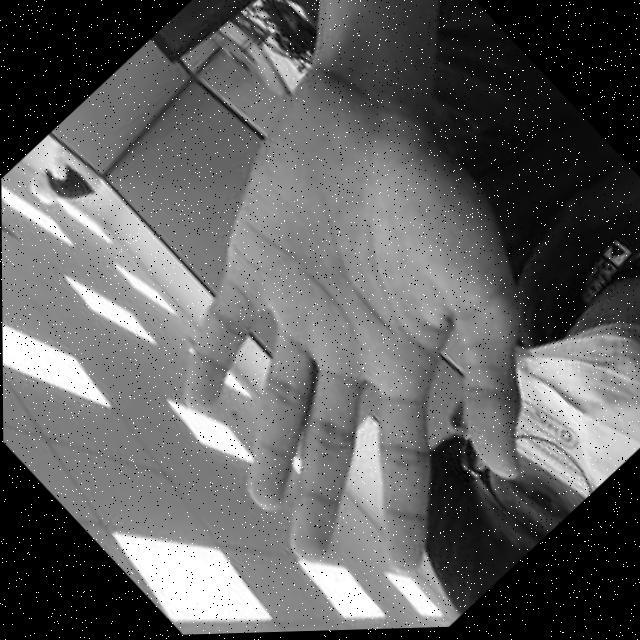no-gloves: (54, 31, 638, 632)
